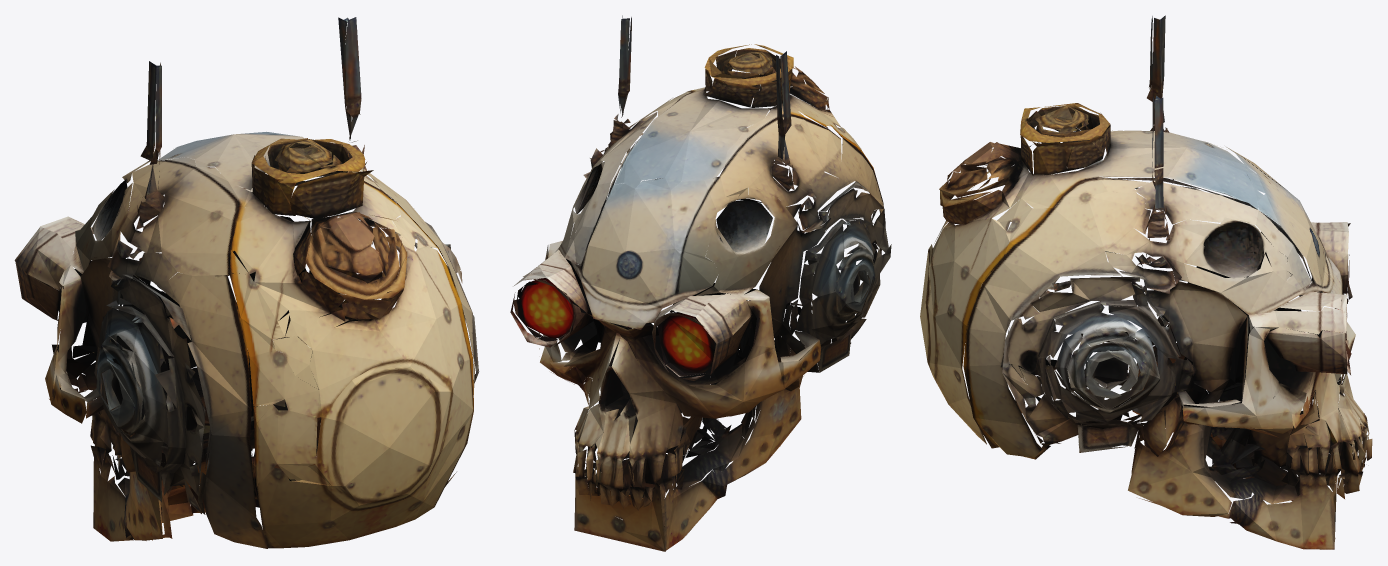
File: cara-ciber2.glb
3 views of the same model, side by side, from view 1: azimuth 30°, elevation 25°; view 2: azimuth 150°, elevation 25°; view 3: azimuth 270°, elevation 25° (orthographic). The views are drawn at different scales.
Parts seen in each view (by area): view 1: geometry_0; view 2: geometry_0; view 3: geometry_0.
Part boxes in pixels (<box>): geometry_0: <box>14,17,479,548</box>; geometry_0: <box>510,15,891,551</box>; geometry_0: <box>920,15,1372,549</box>.
Bounding box in the file's own units: 0.6339 × 0.9943 × 0.864.
1 material, 1 textured.
